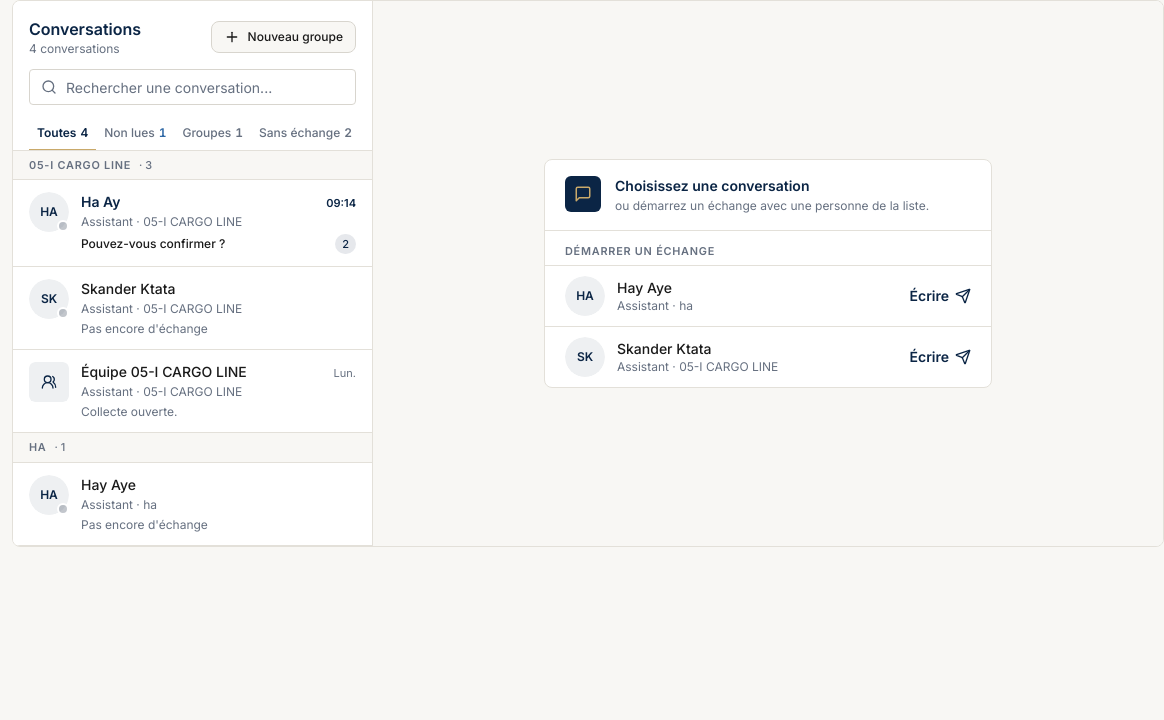
Test: boîte de messagerie du cabinet › filtre les conversations avec leur nombre : non lues, groupes, sans échange
Expected: the button "Toutes4" is shown, 29,117 -> 96,151
Click the button "Non lues1" at (135, 134), box 96,117 -> 174,151
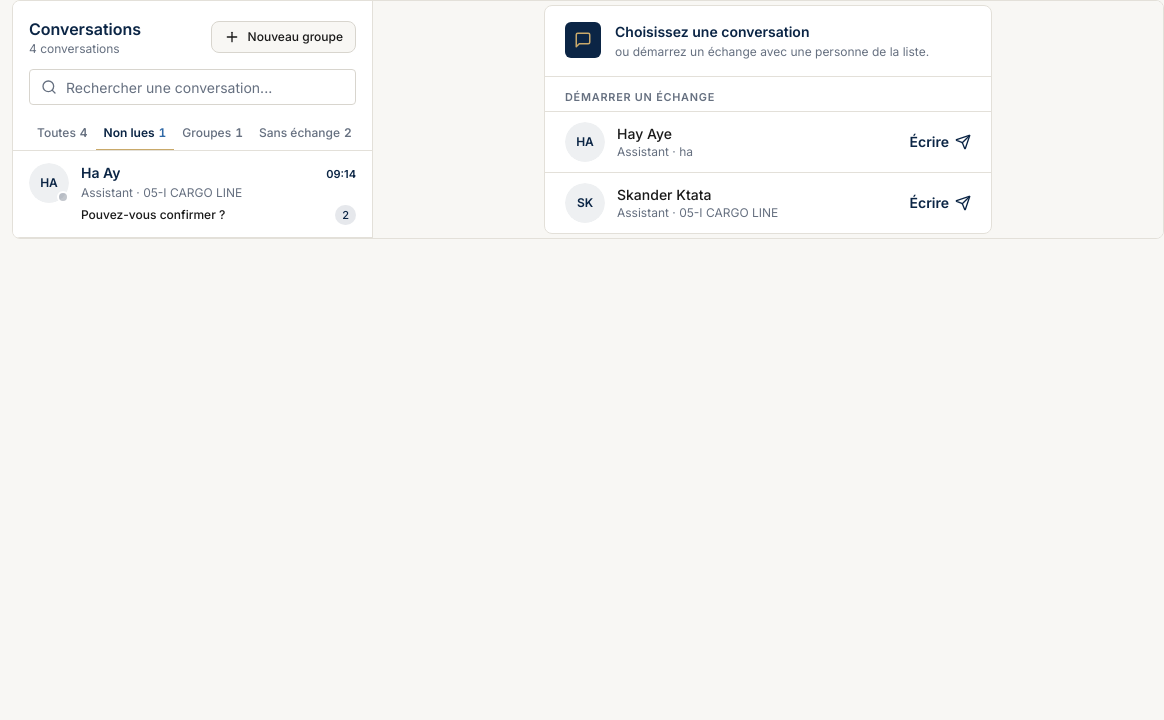
Expected: the text "Ha Ay" is shown, 81,163 -> 120,183
Click the button "Sans échange2" at (305, 134), box 251,117 -> 360,151
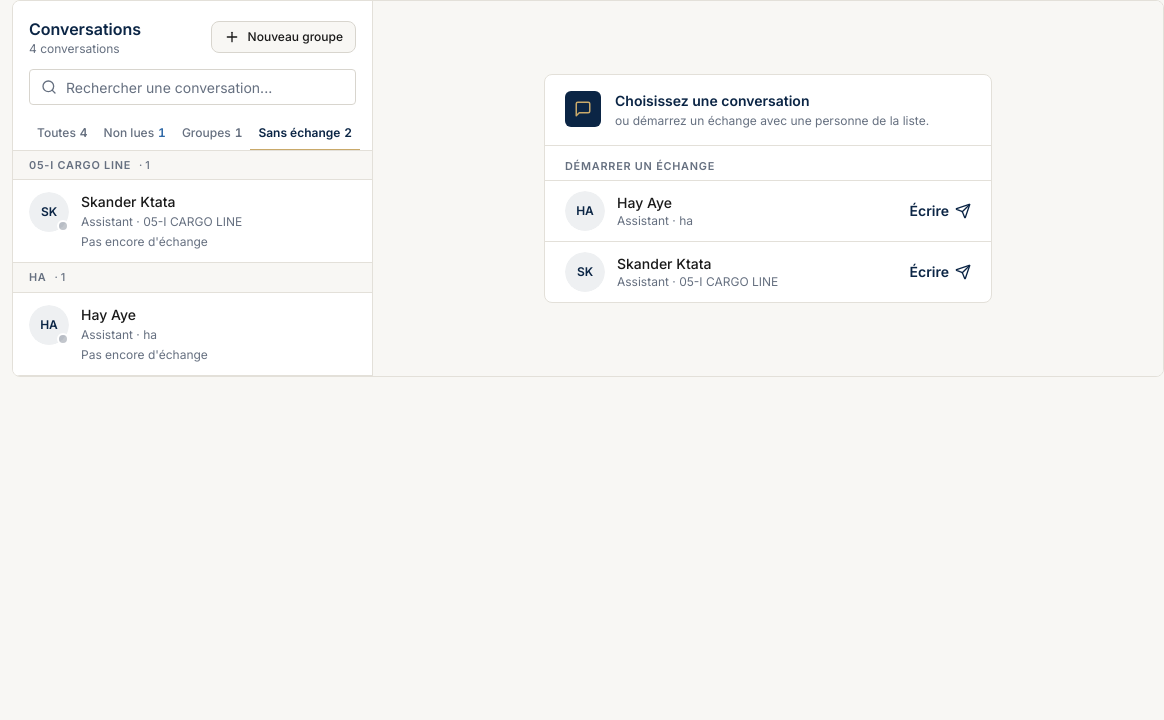
Result: the 1st text "Skander Ktata" is shown at 81,192 -> 176,212
Click the button "Groupes1" at (212, 134), box 174,117 -> 250,151
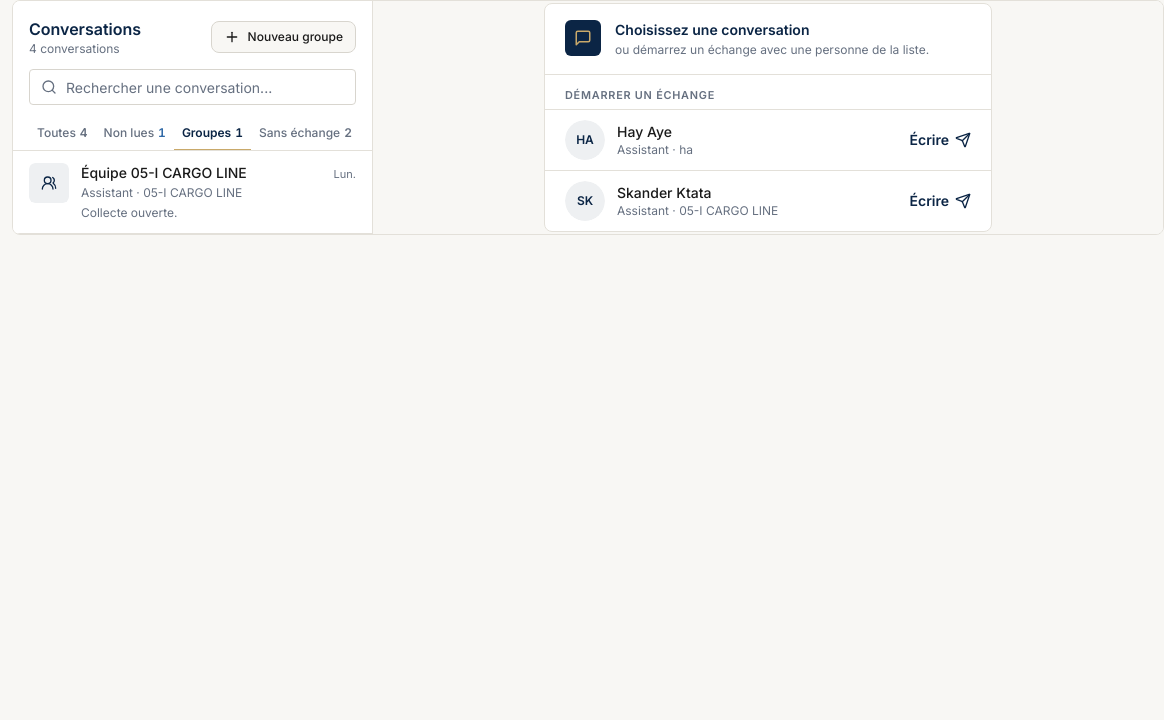
Result: the text "Équipe 05-I CARGO LINE" is shown at 81,163 -> 247,183
